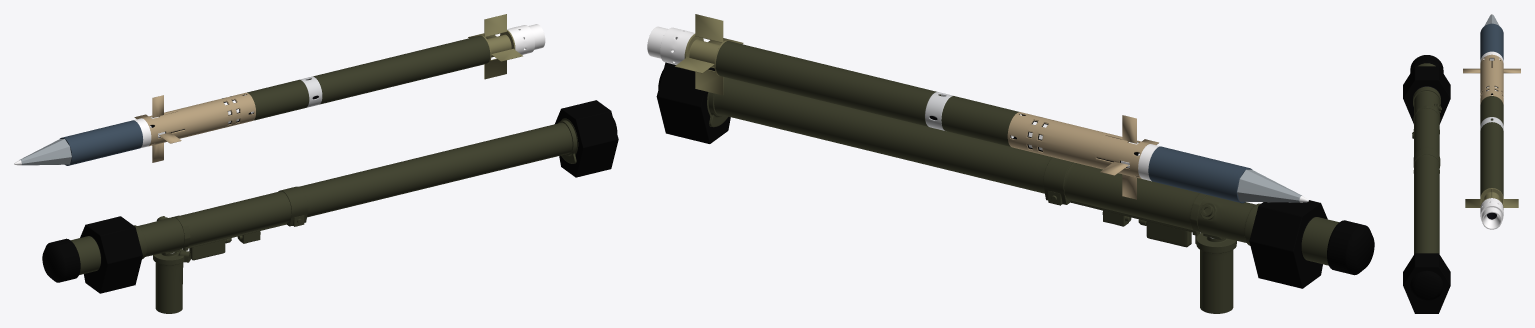
Rendered from mistral_launcher_rocket.glb.
The picture shows the model from 3 angles, left to right: view 1: azimuth 30°, elevation 25°; view 2: azimuth 150°, elevation 25°; view 3: azimuth 270°, elevation 25°; orthographic projection. The views are drawn at different scales.
Visible parts, largest first — view 1: launcher, roket_body_back, cap_front, cap_back, servomotor_section, roket_body_front, cooler, irdome, launch_motor, stabilizer_back_base, stabilizer_back_3; view 2: launcher, roket_body_back, cap_front, servomotor_section, roket_body_front, cap_back, cooler, irdome, launch_motor, stabilizer_back_base, stabilizer_back_3, cor_motor (+1 smaller); view 3: launcher, cap_back, roket_body_back, cap_front, servomotor_section, roket_body_front, launch_motor, stabilizer_back_base, stabilizer_back_2, stabilizer_back_4, cor_motor, stabilizer_front_2 (+1 smaller).
Part boxes in pixels (x1,y1,x2,y2): launcher: [134, 118, 578, 260]; roket_body_back: [247, 35, 490, 120]; cap_front: [42, 216, 142, 293]; cap_back: [555, 100, 618, 177]; servomotor_section: [141, 92, 255, 146]; roket_body_front: [60, 118, 151, 165]; cooler: [153, 249, 190, 313]; irdome: [14, 139, 71, 165]; launch_motor: [507, 24, 545, 54]; stabilizer_back_base: [481, 30, 515, 63]; stabilizer_back_3: [484, 14, 506, 36]; launcher: [707, 77, 1260, 247]; roket_body_back: [716, 41, 1018, 146]; cap_front: [1249, 200, 1374, 288]; servomotor_section: [1007, 112, 1150, 179]; roket_body_front: [1138, 144, 1252, 203]; cap_back: [656, 62, 730, 143]; cooler: [1196, 233, 1236, 313]; irdome: [1237, 169, 1308, 202]; launch_motor: [647, 26, 695, 64]; stabilizer_back_base: [684, 34, 727, 75]; stabilizer_back_3: [695, 14, 723, 42]; cor_motor: [925, 92, 953, 130]; launcher: [1412, 86, 1441, 254]; cap_back: [1403, 253, 1450, 313]; roket_body_back: [1480, 96, 1503, 196]; cap_front: [1403, 55, 1450, 124]; servomotor_section: [1480, 54, 1503, 104]; roket_body_front: [1480, 23, 1503, 62]; launch_motor: [1480, 198, 1503, 229]; stabilizer_back_base: [1480, 188, 1503, 207]; stabilizer_back_2: [1502, 199, 1518, 207]; stabilizer_back_4: [1465, 199, 1481, 207]; cor_motor: [1480, 117, 1503, 130]; stabilizer_front_2: [1503, 68, 1520, 73].
Size of the model in its own units: 1.98 by 0.5925 by 0.4485.
